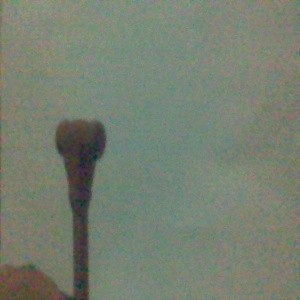palu: (55, 117, 107, 300)
